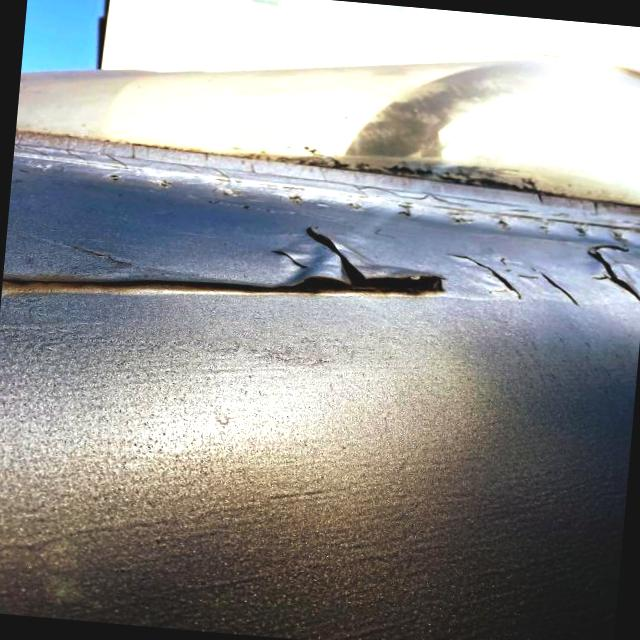crack: (461, 250, 587, 312), (67, 239, 139, 272), (260, 242, 320, 272)
